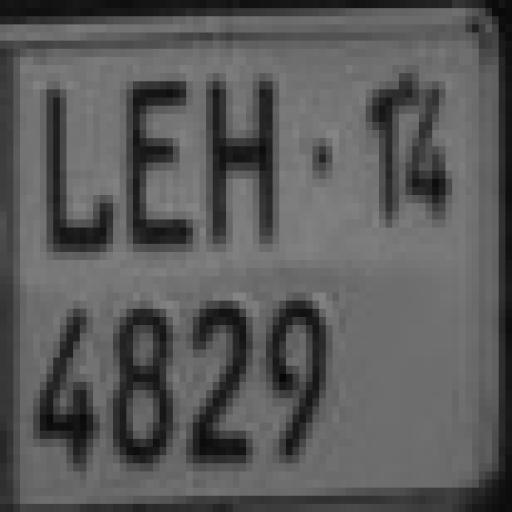2: (186, 303, 254, 479)
4: (27, 303, 106, 479)
8: (112, 310, 179, 470)
9: (261, 300, 342, 458)
E: (121, 74, 202, 256)
H: (204, 74, 286, 254)
L: (42, 74, 116, 258)
